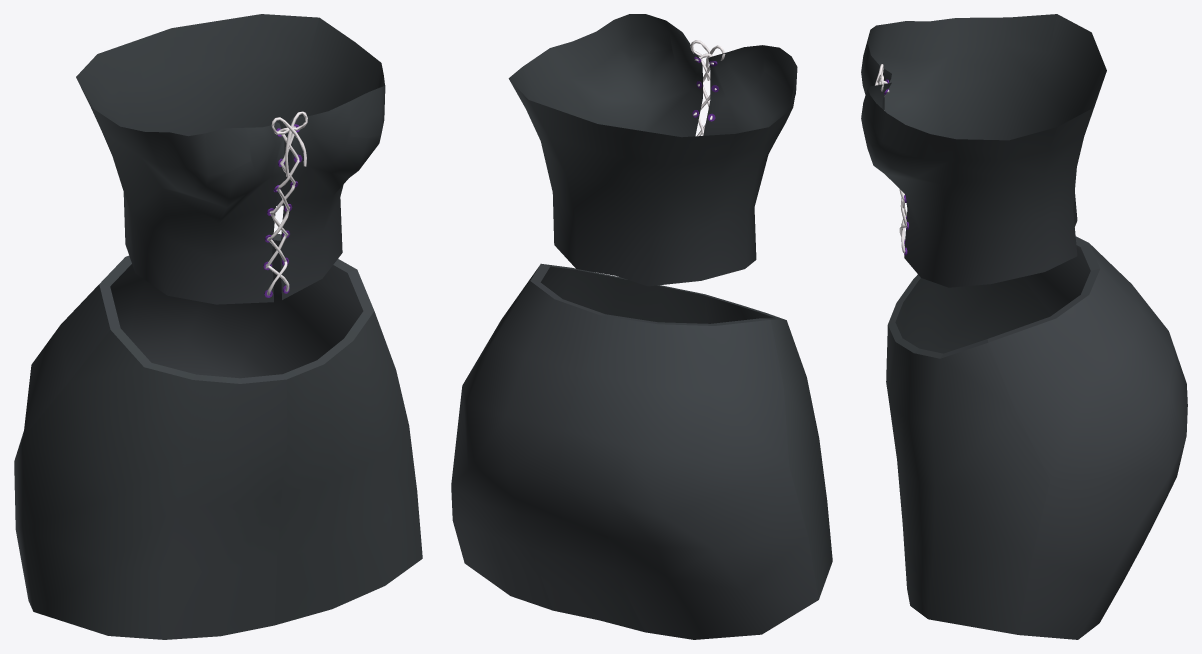
File: clothes3.fbx
The picture shows the model from 3 angles, left to right: view 1: azimuth 30°, elevation 25°; view 2: azimuth 150°, elevation 25°; view 3: azimuth 270°, elevation 25°; orthographic projection. The views are drawn at different scales.
Visible parts, largest first — view 1: clothes3; view 2: clothes3; view 3: clothes3.
Part boxes in pixels (bbox=[...]): clothes3: bbox=[14, 14, 422, 639]; clothes3: bbox=[451, 14, 832, 639]; clothes3: bbox=[861, 14, 1187, 639].
Size of the model in its own units: 43.36 by 60.51 by 34.59.
1 material, 1 textured.
